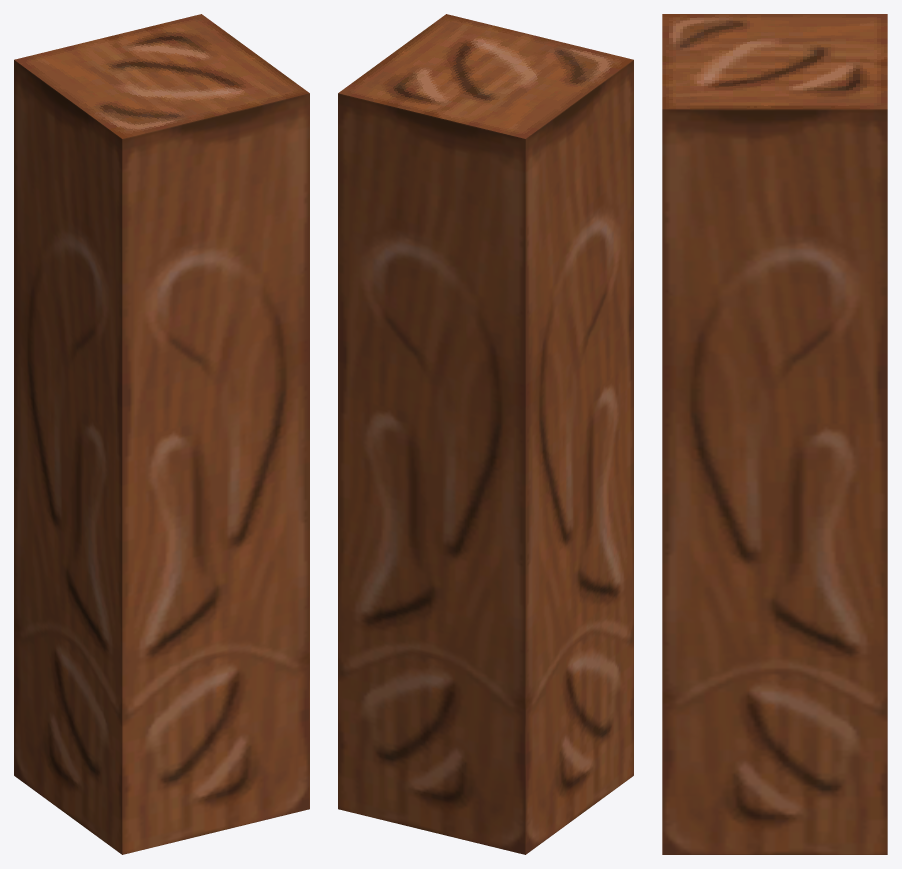
File: INST_EKH_BOOKCASECAP.obj
3 renders of one model, left to right at view 1: azimuth 30°, elevation 25°; view 2: azimuth 150°, elevation 25°; view 3: azimuth 270°, elevation 25°, orthographic. The views are drawn at different scales.
Parts seen in each view (by area): view 1: Inst_Endcap; view 2: Inst_Endcap; view 3: Inst_Endcap.
Boxes of the visible parts, x1,y1,x2,y2 form: Inst_Endcap: (14, 14, 309, 854); Inst_Endcap: (338, 14, 633, 854); Inst_Endcap: (662, 14, 887, 854).
Size of the model in its own units: 57.58 by 210 by 57.58.
